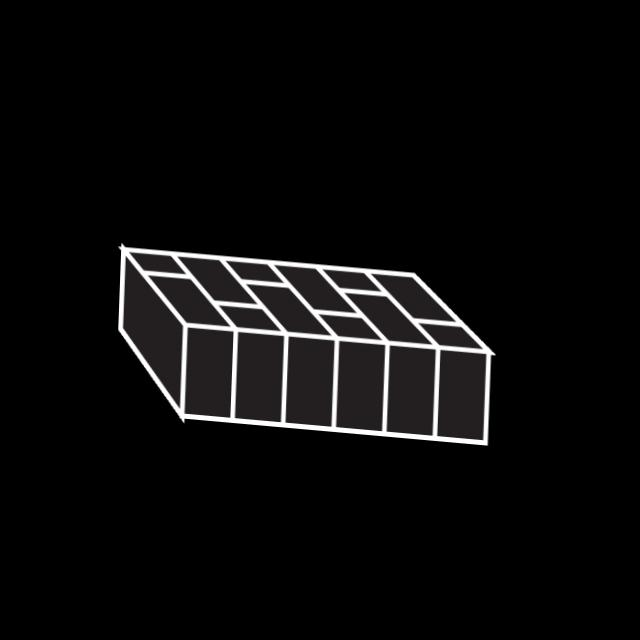Firewall: (69, 129, 541, 519)
